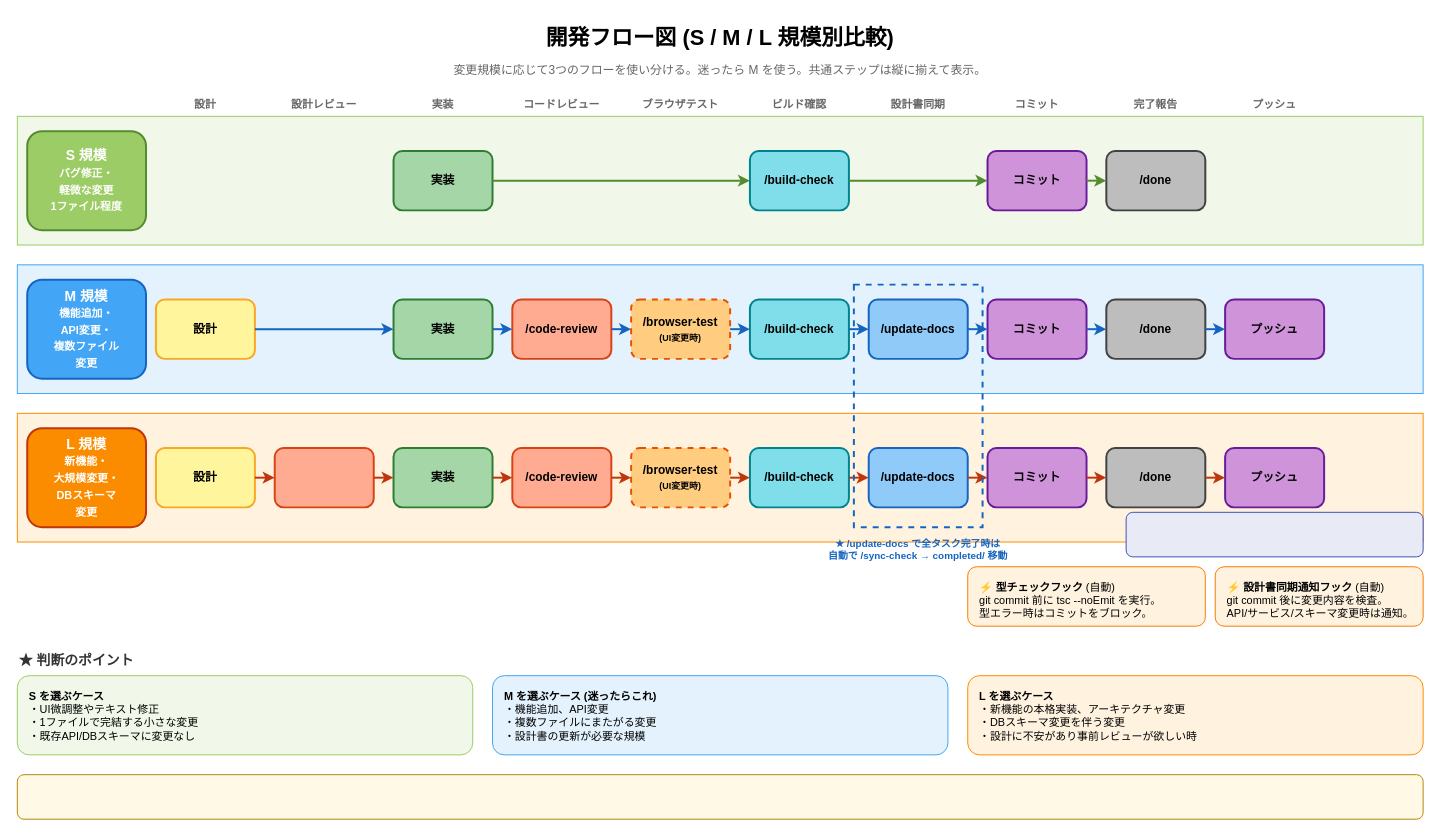
The diagram is 1440 pixels wide and 837 high, and some of its shapes have lost their labels. The shapes that lost their labels are listed below. From the top down, each one's centre as x and y in pixels, then its label:
pixel 323 477: /design-review
pixel 1274 534: 🔍 /pre-push-check (プッシュ前・M/L共通) 未プッシュコミットが .doc-sync.md に記録済みか確認
pixel 719 796: 共通ルール ・レビュー前にコミットしない (M/L) ・サブエージェント委譲時はAPI設計書のパスを明示 ・プッシュ前に /pre-push-check を実行
